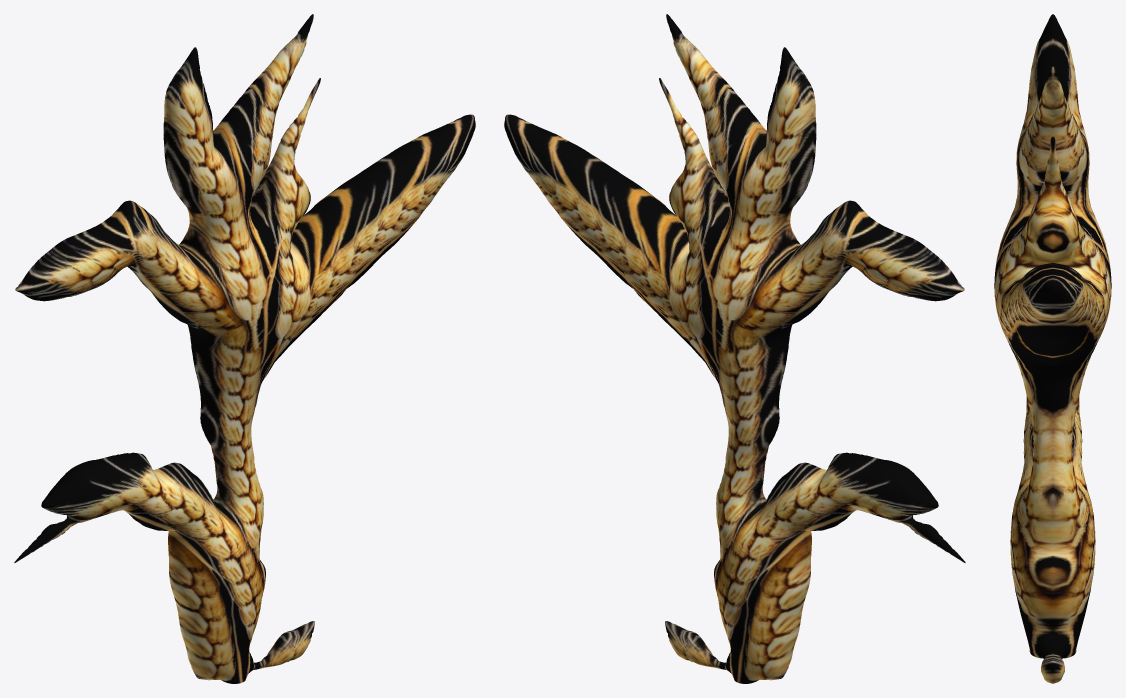
File: wheat.glb
The picture shows the model from 3 angles, left to right: view 1: azimuth 30°, elevation 25°; view 2: azimuth 150°, elevation 25°; view 3: azimuth 270°, elevation 25°; orthographic projection. The views are drawn at different scales.
Bounding box in the file's own units: 5.44 × 7.25 × 1.22.
Materials: 1 (1 with a texture image).
